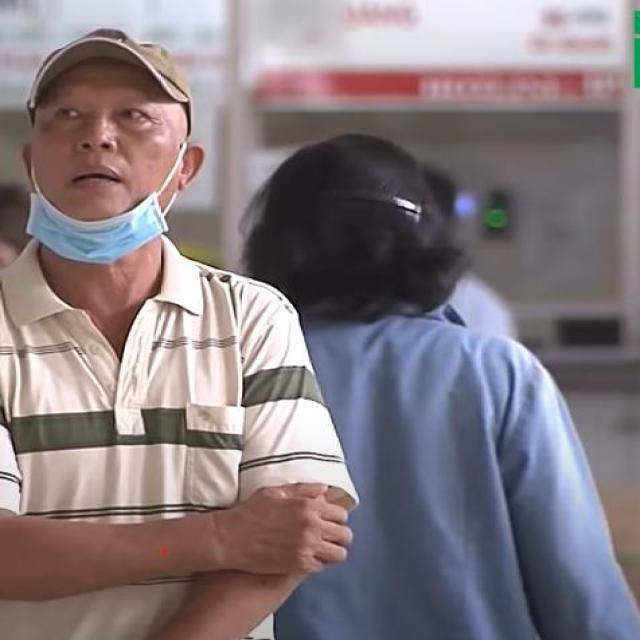hairnet: (30, 96, 174, 262)
